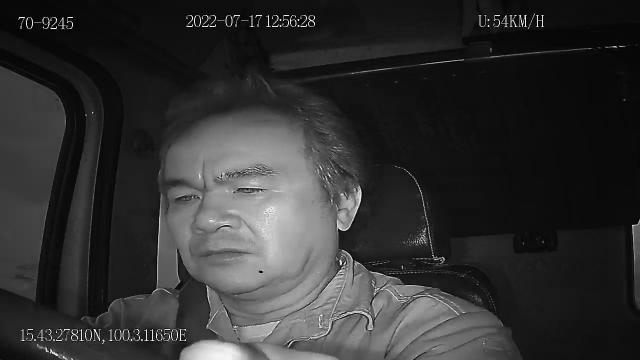SafeDriving: (224, 174, 278, 204), (163, 180, 206, 211)
Seatbelt: (171, 275, 221, 360)
